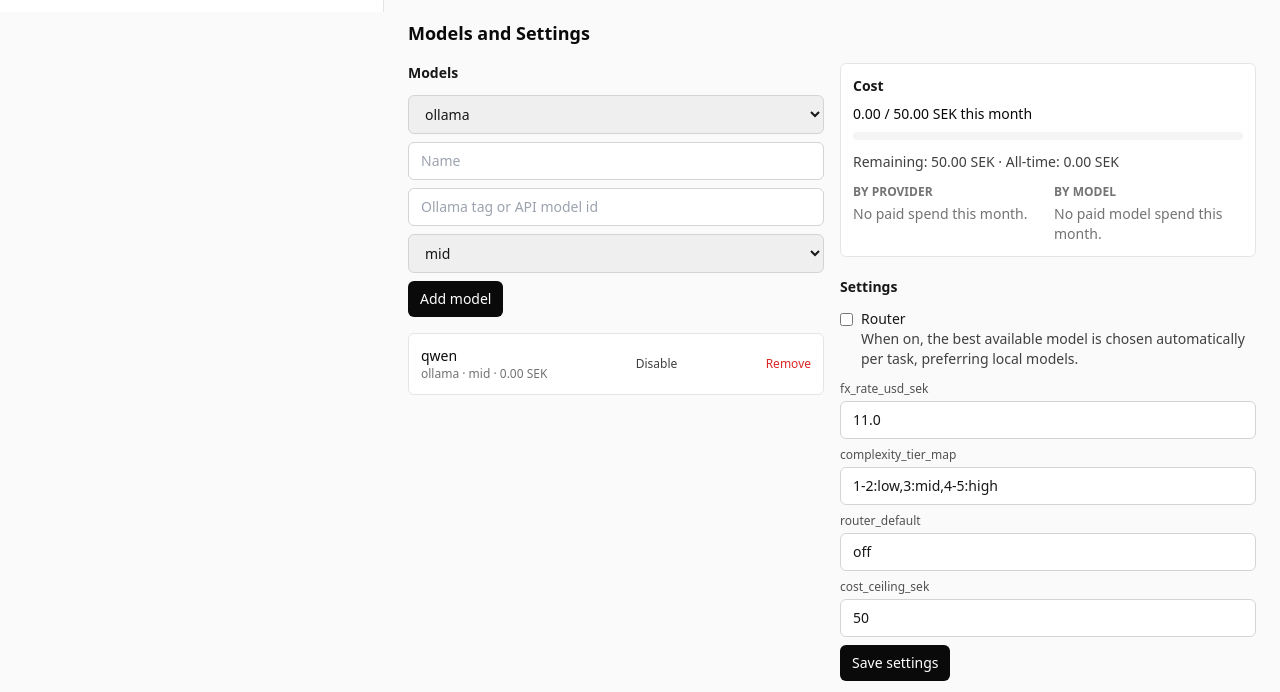
Test: App router setting flow › updates generation and inspection model choice immediately after settings toggle
This screenshot has width=1280, height=692.
(page scrolled)
Click the checkbox labelled "Router".
click(846, 320)  # box [840,313,853,326]
(page scrolled)
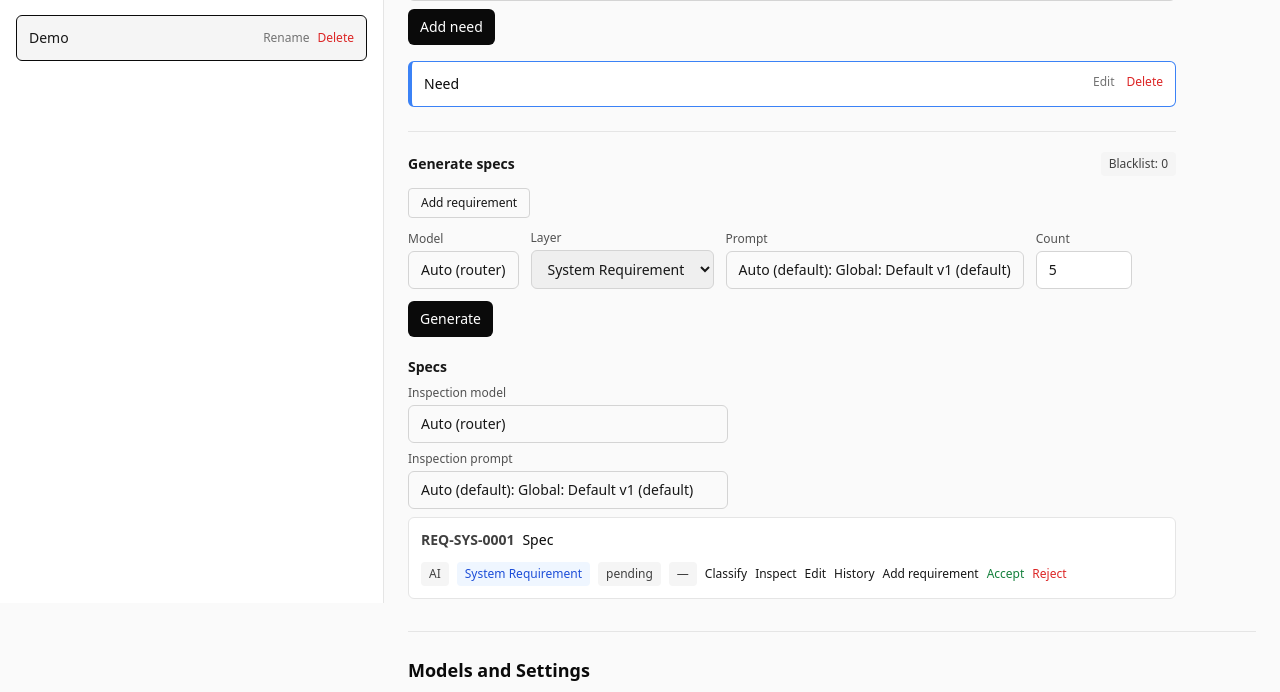
Expected: the text "Auto (router)" is shown 2 times, [408,251,518,289]; [408,405,728,443]
Expected: the text "Auto (default): Global: Default v1 (default)" is shown 2 times, [726,251,1024,289]; [408,471,728,509]
Click the button "Generate".
click(450, 319)  # box [408,301,493,337]
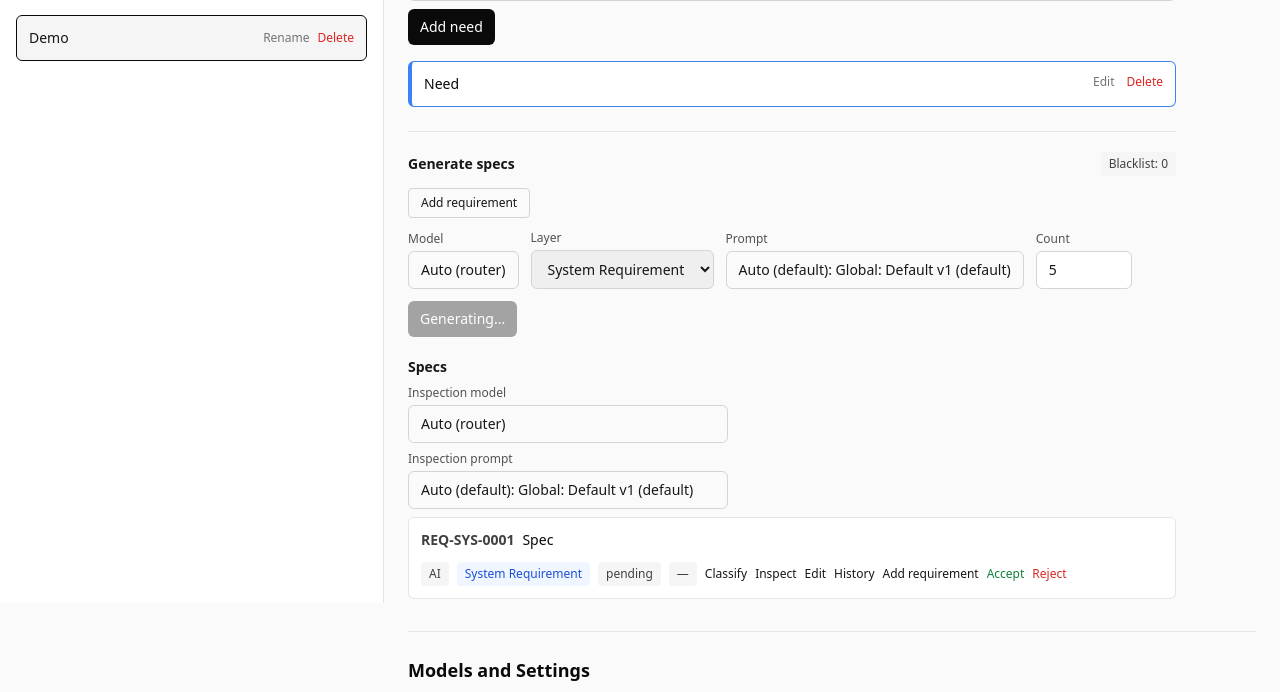
Click the button "Inspect".
click(776, 574)  # box [755,566,797,582]
(page scrolled)
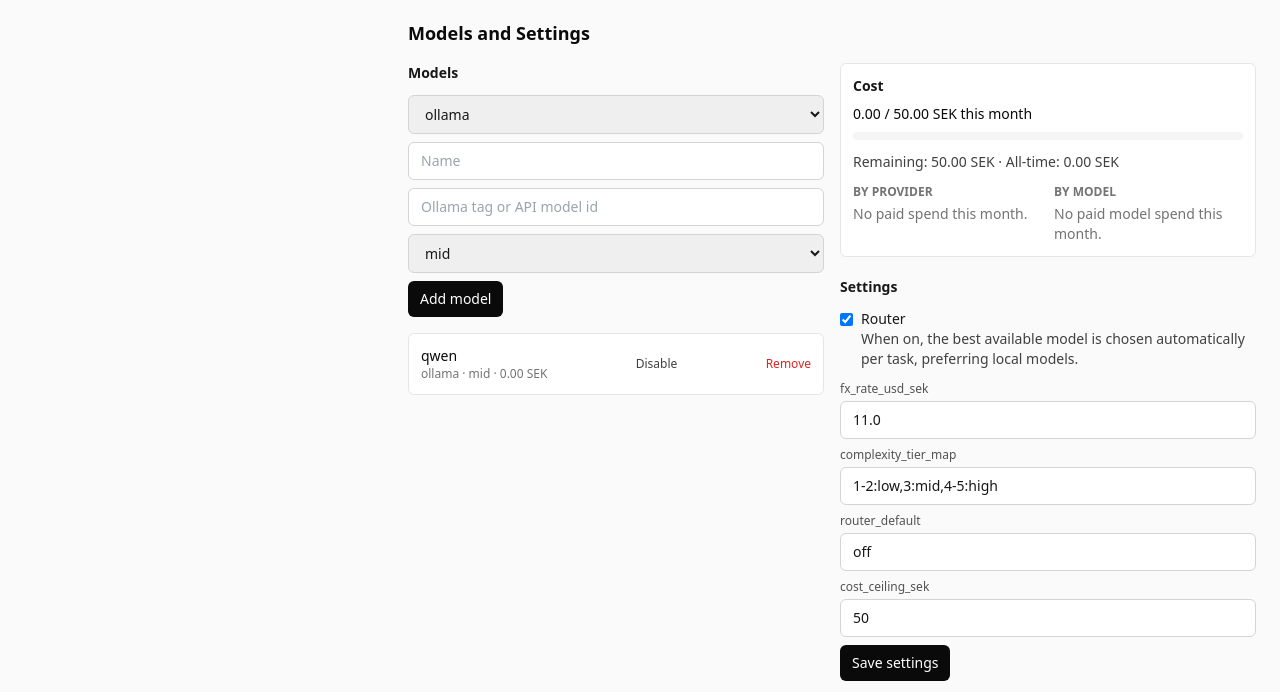
Click the checkbox labelled "Router".
click(846, 320)  # box [840,313,853,326]
(page scrolled)
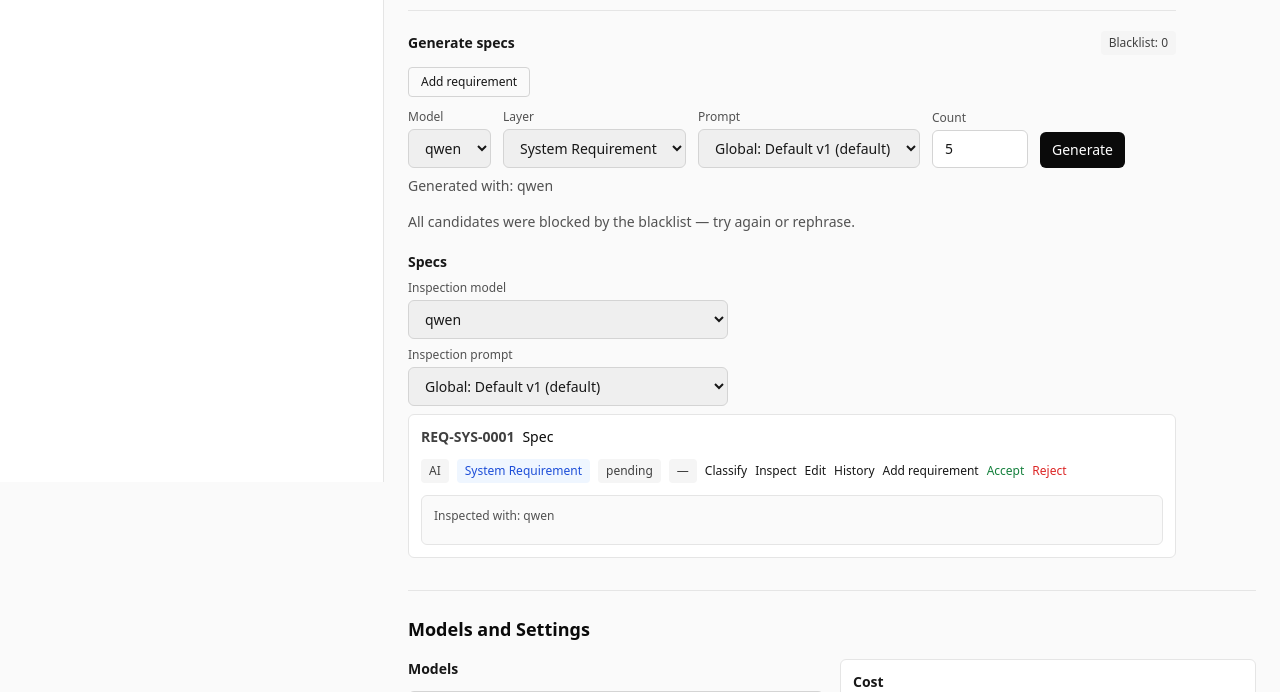
Expected: the dropdown named "Generation model" is shown, [408,129,491,168]
Expected: the dropdown labelled "Inspection model" is shown, [408,300,728,339]
